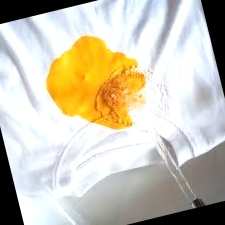mustard: (37, 27, 149, 141), (89, 68, 134, 119), (124, 66, 151, 94)
